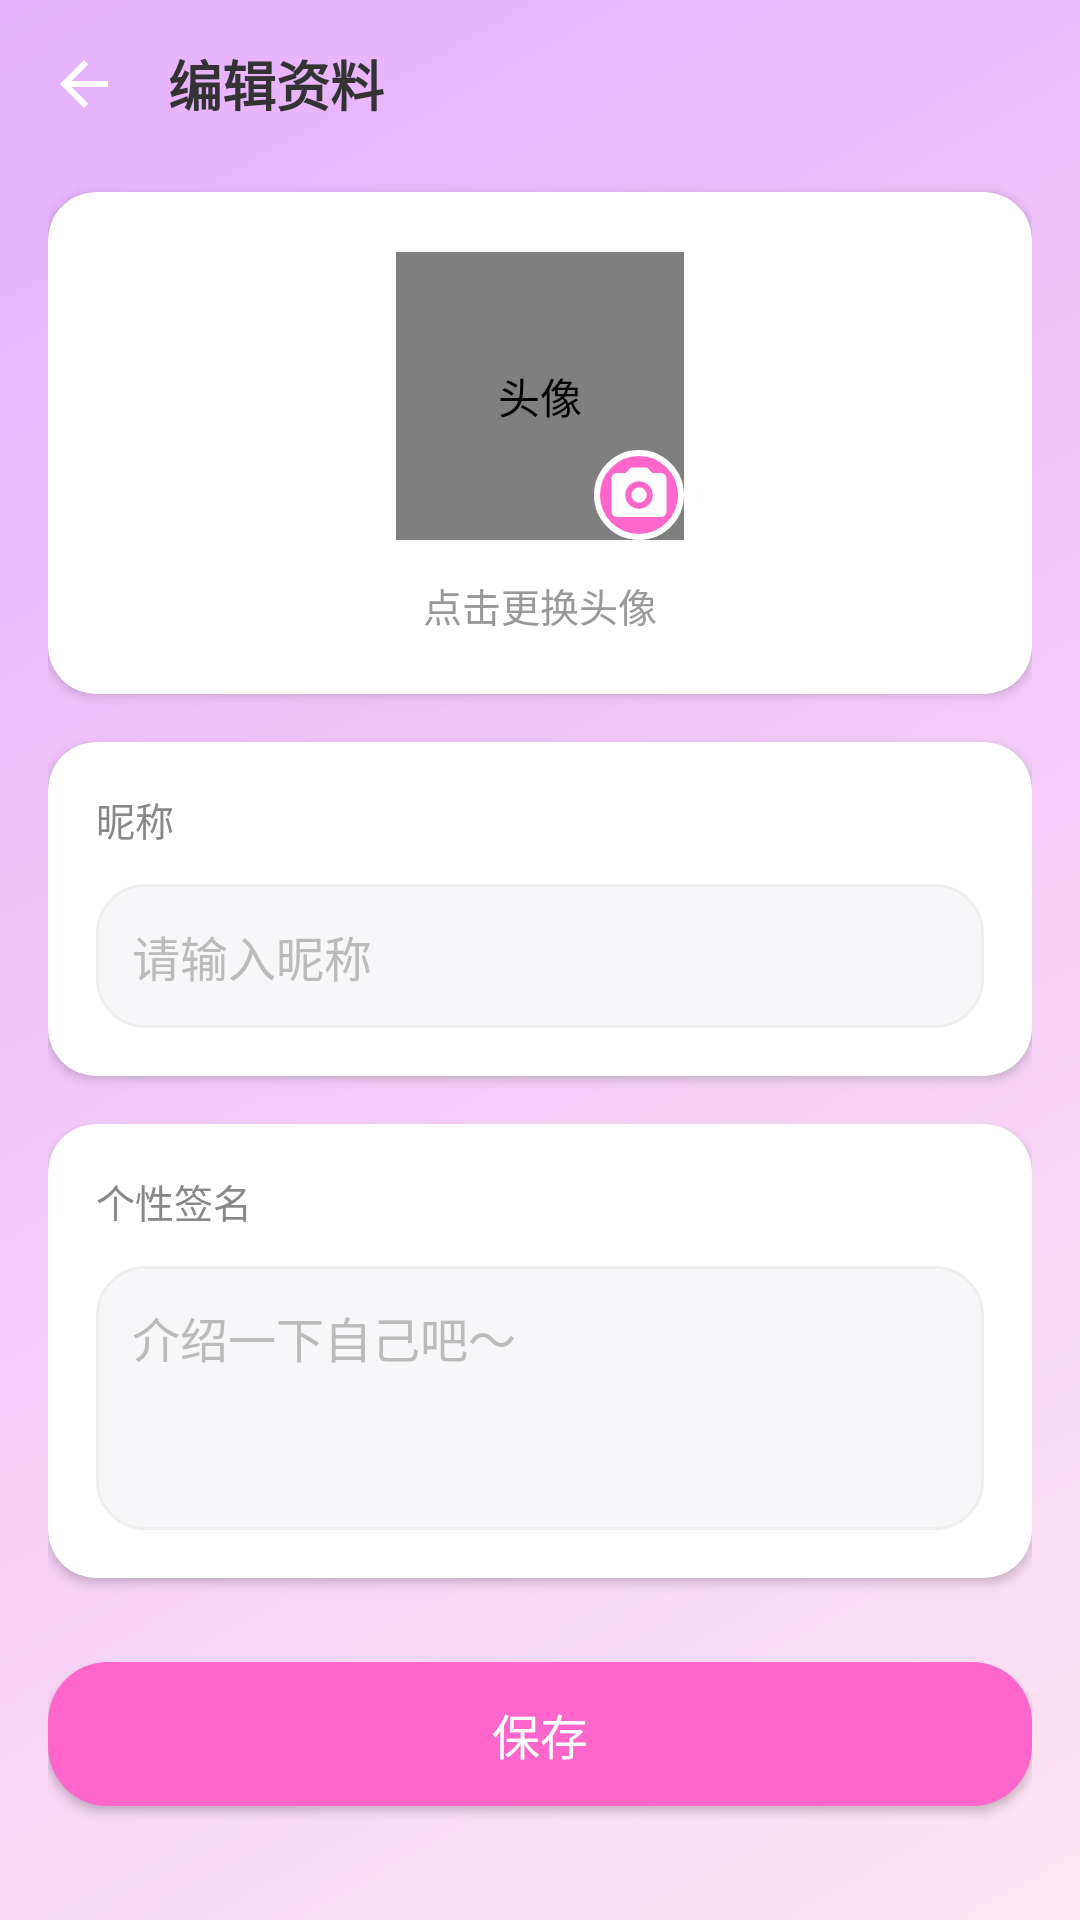

Where to tap for icons on this 1080x1920 app screen, as (x,y):
camera: (639,495)
返回: (84,84)
